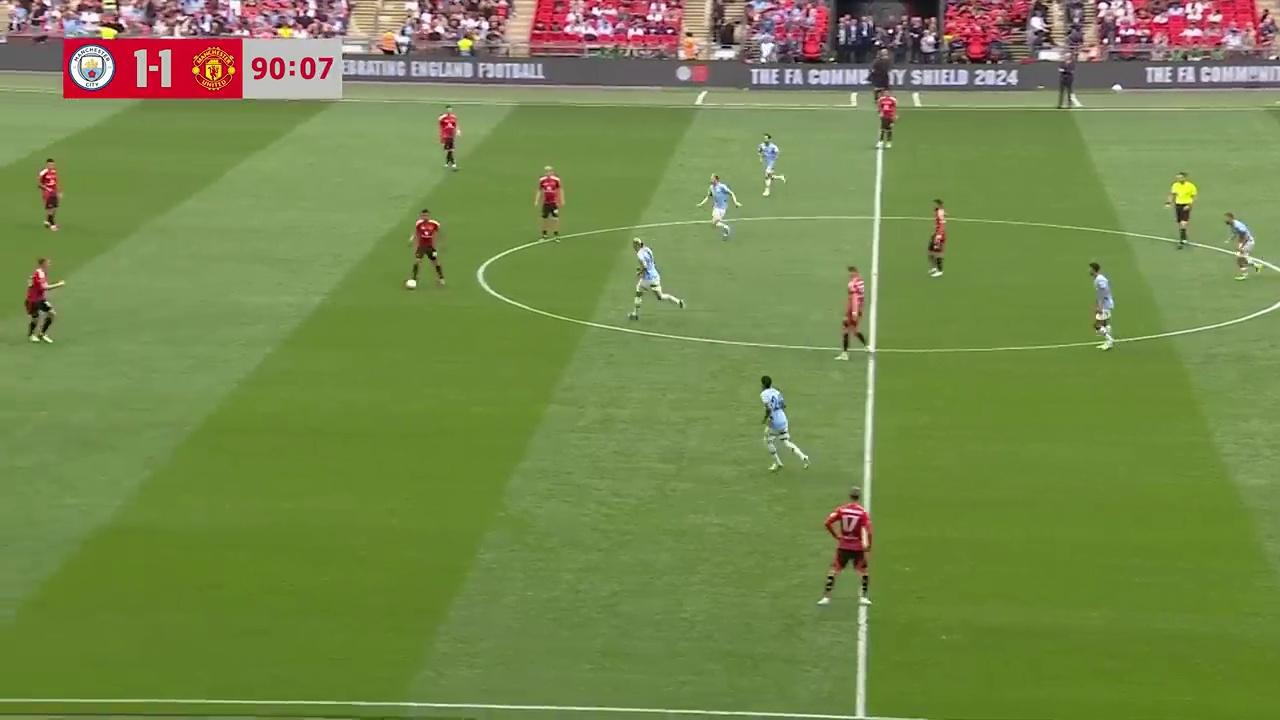ball: (406, 277, 420, 291)
player: (815, 487, 873, 606), (759, 375, 809, 471), (628, 238, 684, 318), (404, 207, 446, 288), (24, 256, 60, 343), (837, 265, 868, 360), (699, 173, 739, 238), (1088, 261, 1115, 350), (534, 165, 564, 243), (1225, 214, 1261, 279), (37, 157, 63, 231), (758, 133, 785, 196), (927, 198, 946, 277), (438, 107, 461, 170), (876, 89, 898, 148)
referee: (1163, 171, 1197, 250)
